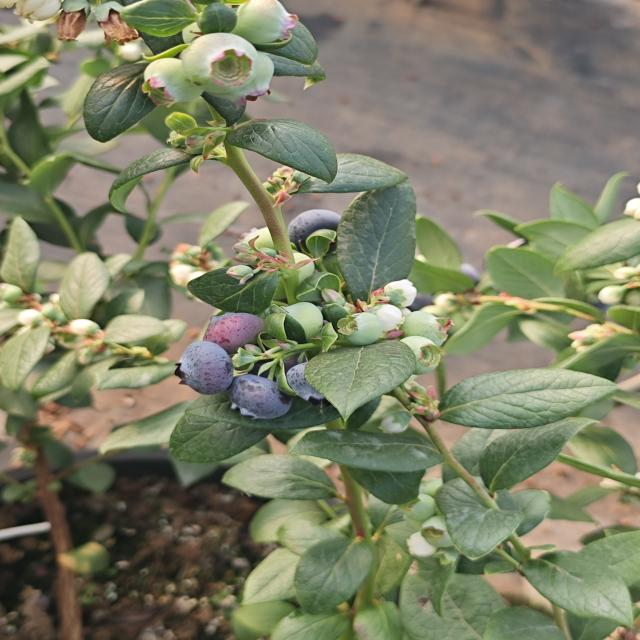ripe: (172, 339, 236, 397), (226, 372, 293, 422), (284, 356, 345, 405), (200, 310, 266, 354), (284, 208, 344, 250)
